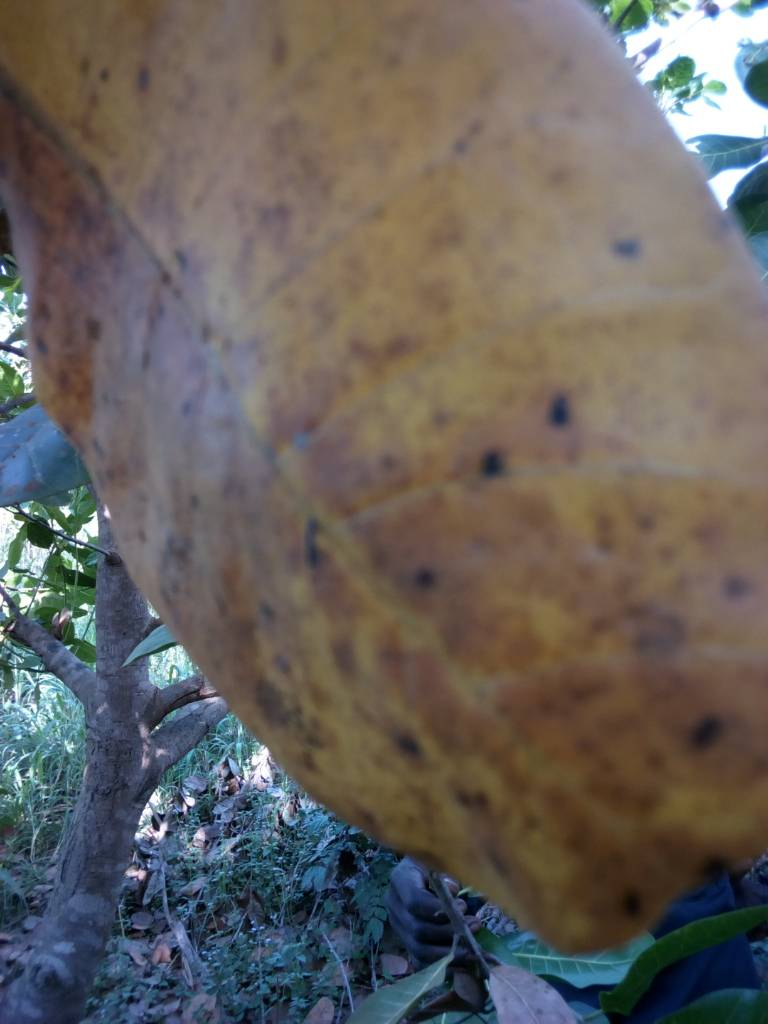Anthracnose: (7, 7, 765, 952)
